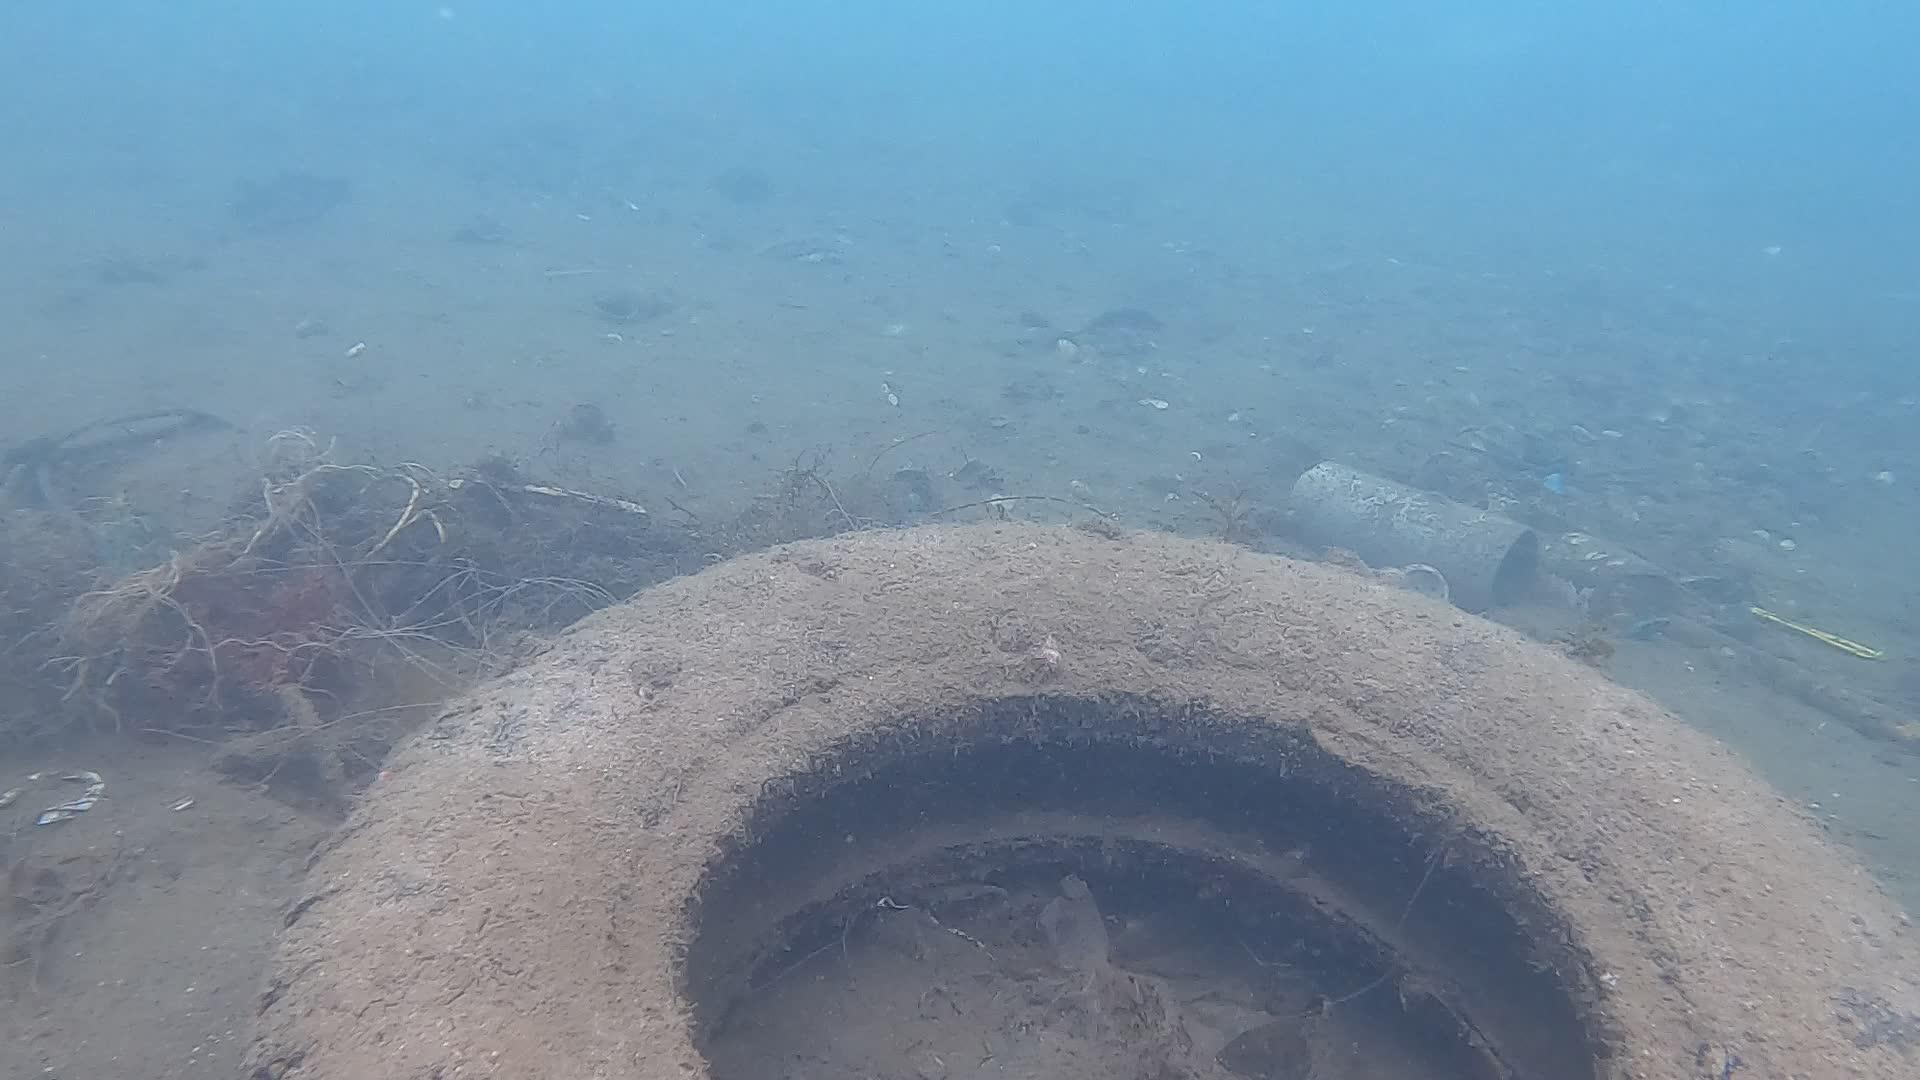tire: (258, 516, 1920, 1080)
